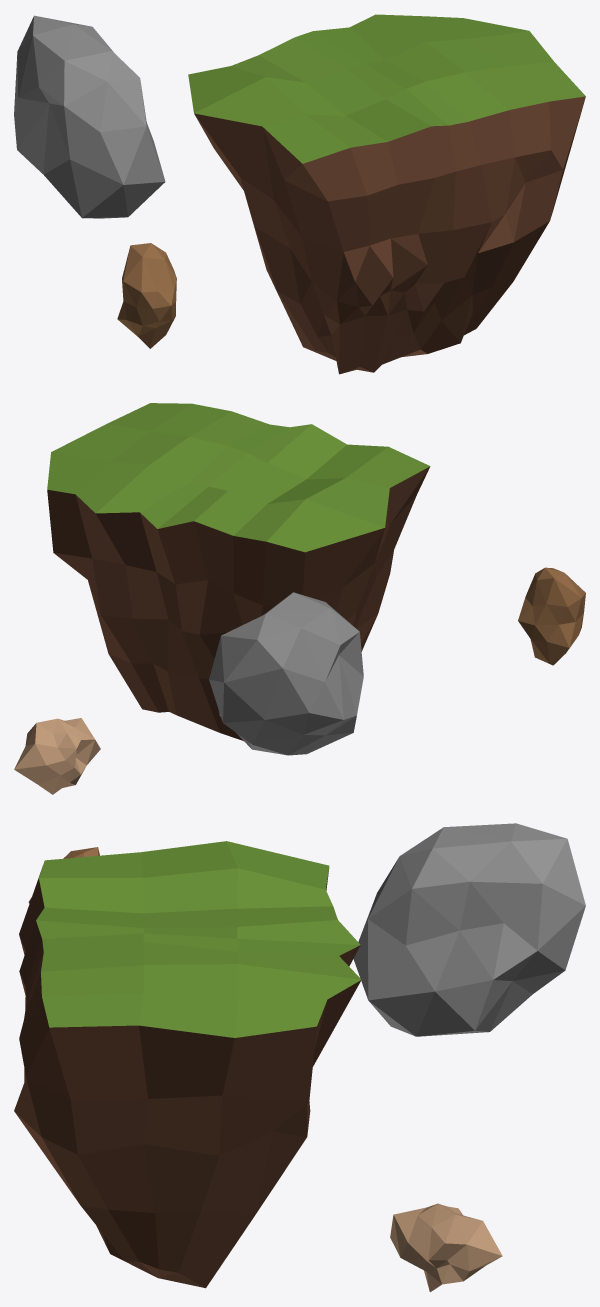
The model's file is Graple Point.glb.
3 renders of one model, top to bottom at view 1: azimuth 30°, elevation 25°; view 2: azimuth 150°, elevation 25°; view 3: azimuth 270°, elevation 25°, orthographic. The views are drawn at different scales.
Visible parts, largest first — view 1: Cube, Icosphere.001, Icosphere; view 2: Cube, Icosphere.001, Icosphere, Icosphere.002; view 3: Cube, Icosphere.001, Icosphere.002.
Boxes of the visible parts, x1,y1,x2,y2 form: Cube: [188, 14, 585, 374]; Icosphere.001: [14, 15, 165, 218]; Icosphere: [117, 243, 176, 348]; Cube: [47, 403, 430, 740]; Icosphere.001: [209, 592, 363, 755]; Icosphere: [518, 567, 585, 665]; Icosphere.002: [14, 718, 100, 794]; Cube: [14, 841, 361, 1288]; Icosphere.001: [353, 823, 585, 1036]; Icosphere.002: [390, 1203, 502, 1292].
Size of the model in its own units: 11.81 by 6.75 by 10.5.
Materials: 1 (1 with a texture image).
